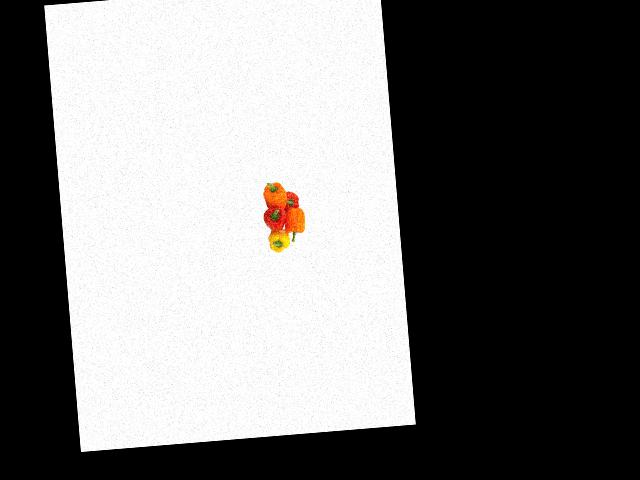bell_pepper: (259, 175, 290, 211)
